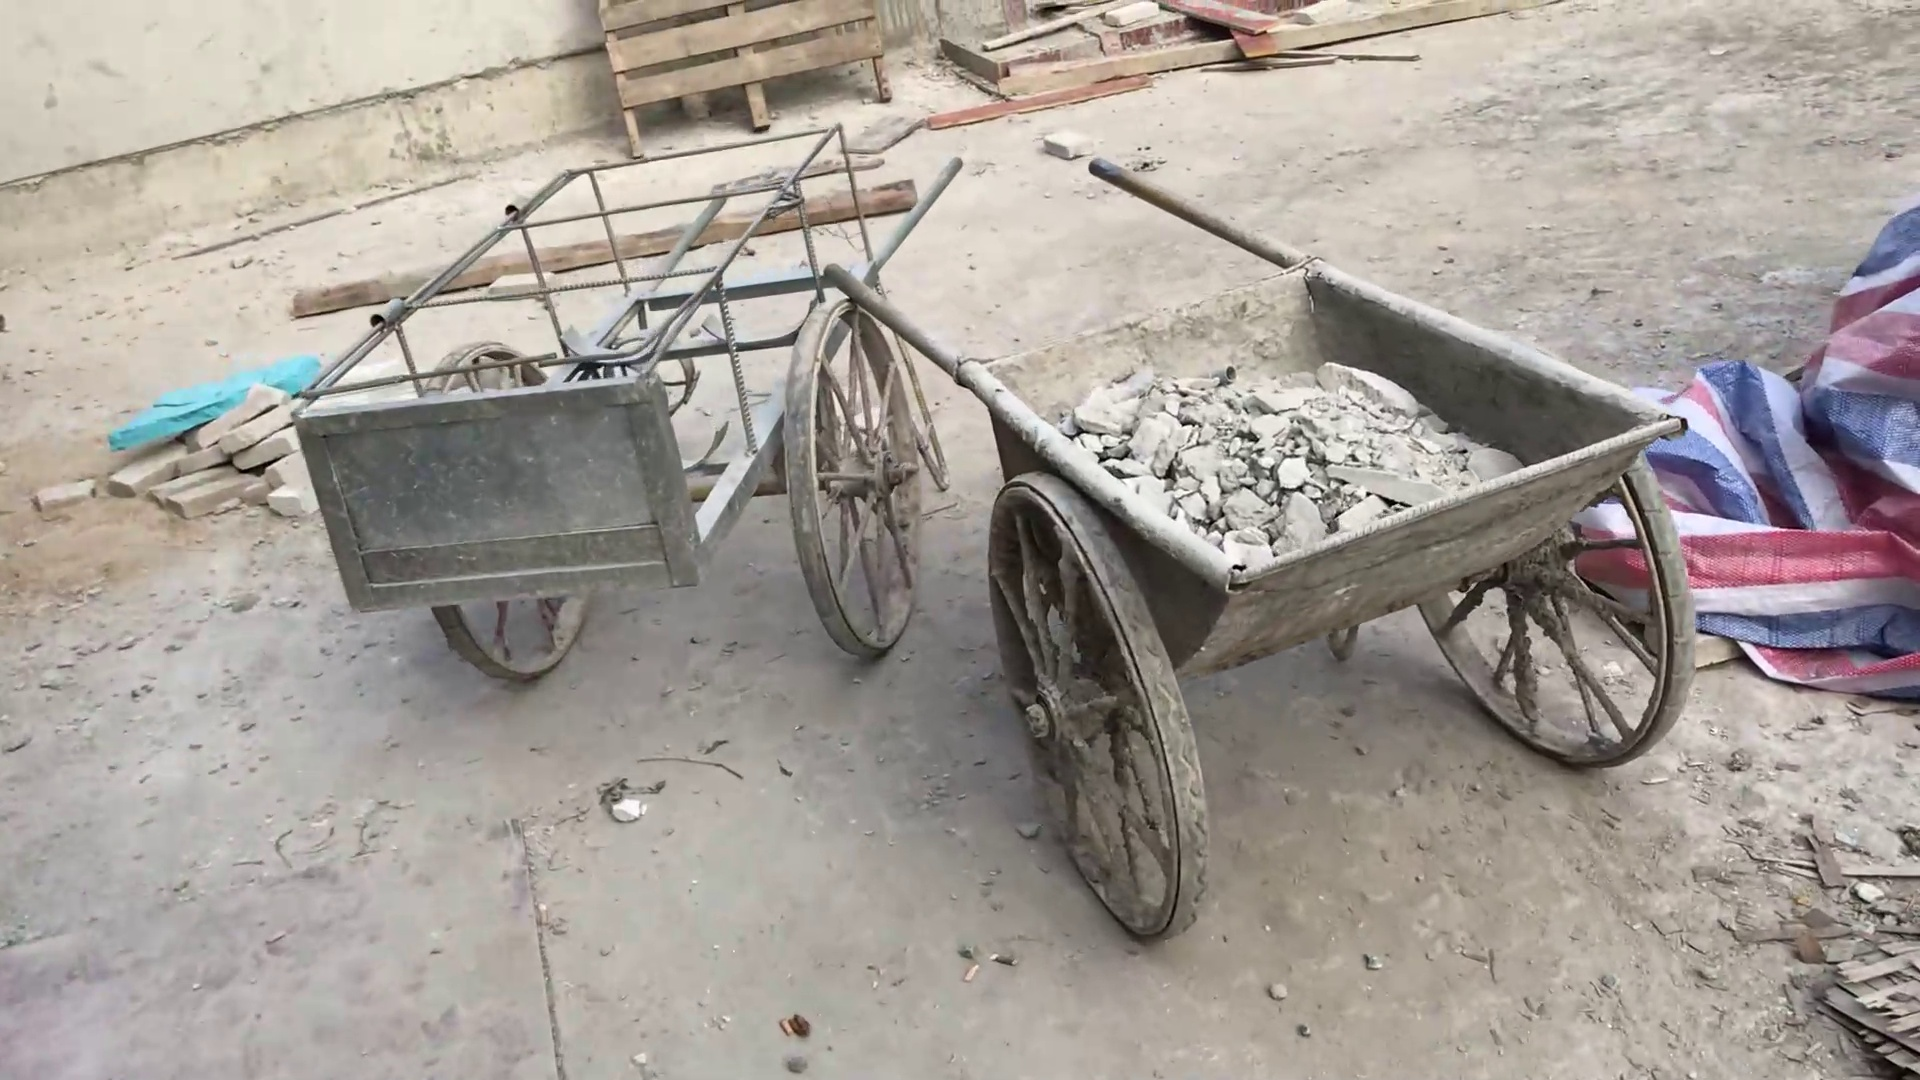handcart: (829, 169, 1718, 898), (301, 109, 965, 687)
